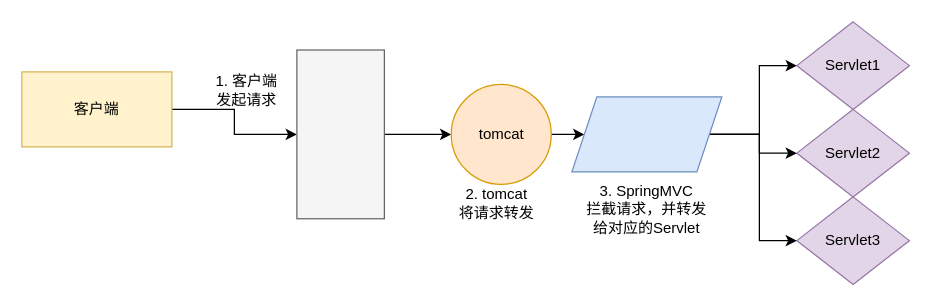
The diagram is 931 pixels wide and 306 high, and some of its shapes have lost their labels. The shapes that lost their labels are listed below. From the top down, each one's centre as x and y in pixels, then its label:
At pixel 340 134: "服务器".
At pixel 646 134: "SpringMVC 拦截器".
